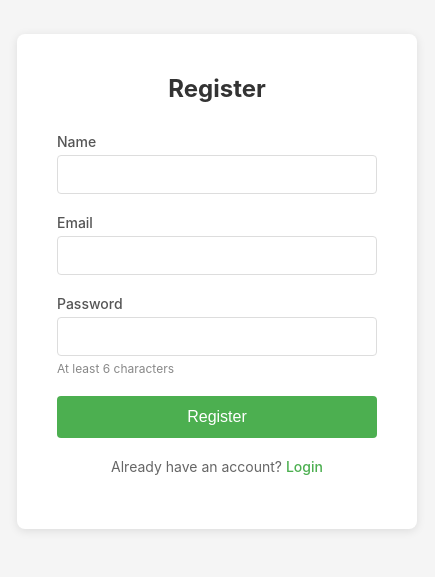
Test: Register Page › should show generic error message when error response has no message
The image size is (435, 577).
In the field labelled "Name": [217, 174] box [57,154,377,194], type "John Doe"
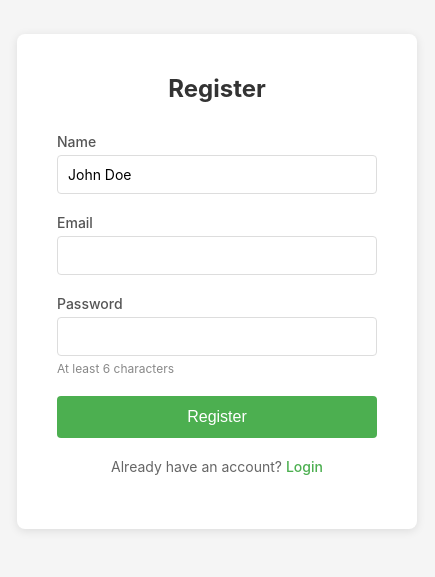
In the field labelled "Email": [217, 255] box [57,236,377,274], type "test@test.com"
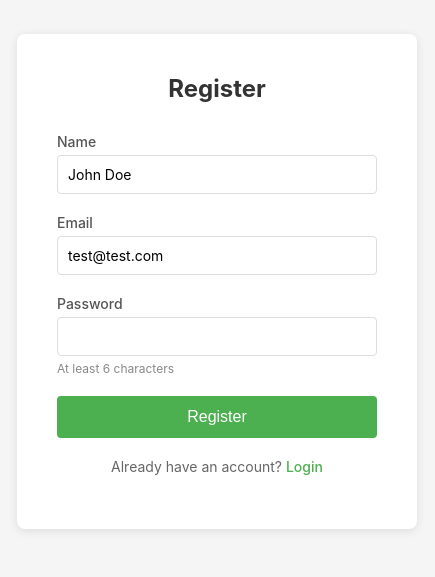
In the password field labelled "Password": [217, 336] box [57,316,377,356], type "password123"
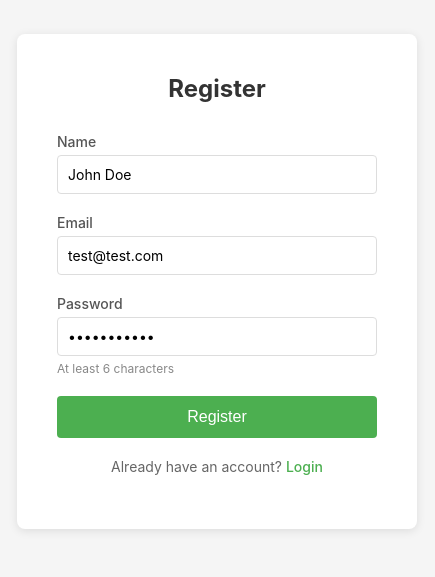
Click the button "Register": [217, 416] box [57,396,377,438]
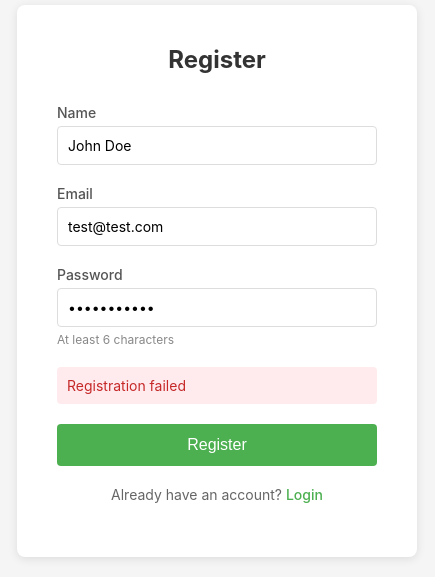
Expected: the text "Registration failed" is shown, [57,367,377,404]
